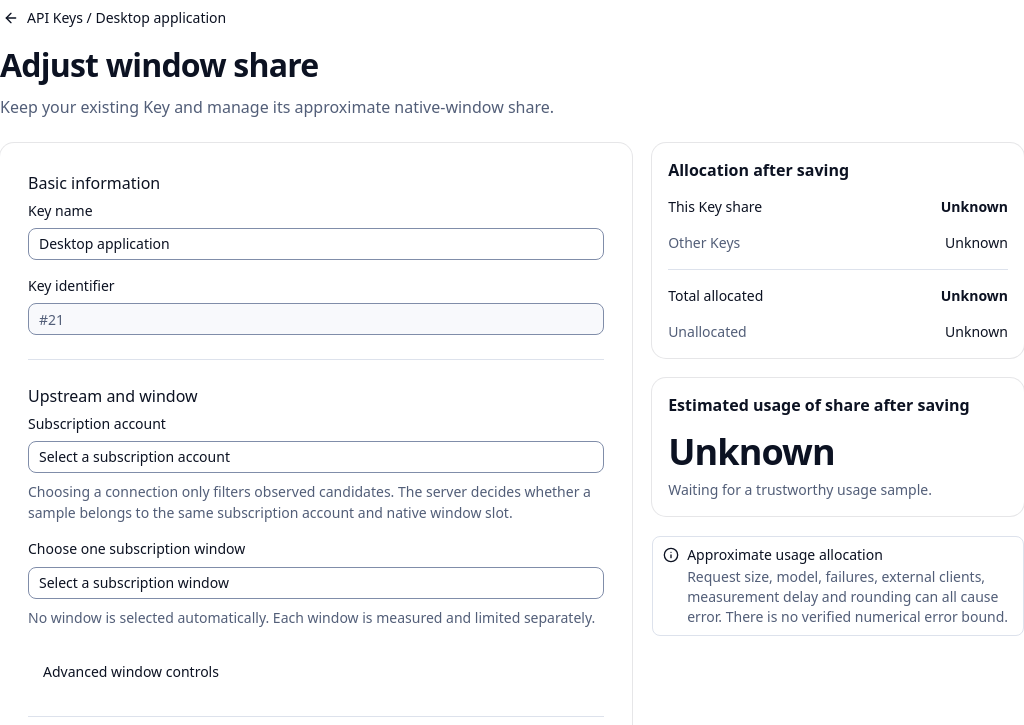
Test: advanced controls retain the existing pool closing and recovery interface
Select "Subscription account A · #9" in the dropdown labelled "Subscription account" at [316, 457], box [28, 441, 604, 473]
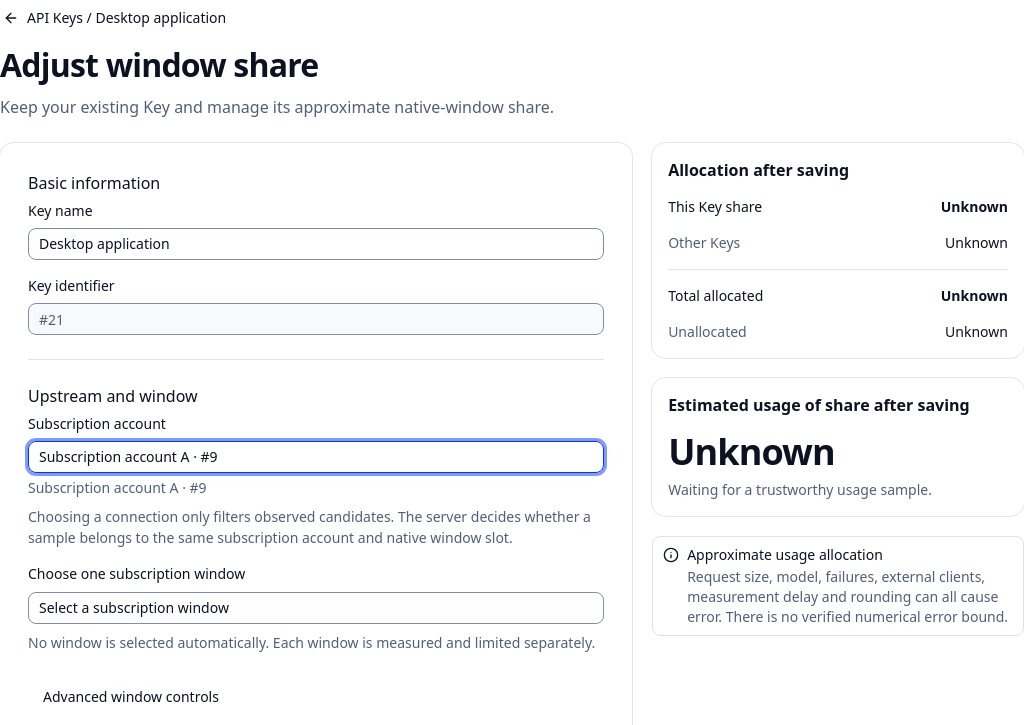
Select "5 hours · Primary window · 5-hour window" in the dropdown labelled "Choose one subscription window" at [316, 608], box [28, 592, 604, 624]
(page scrolled)
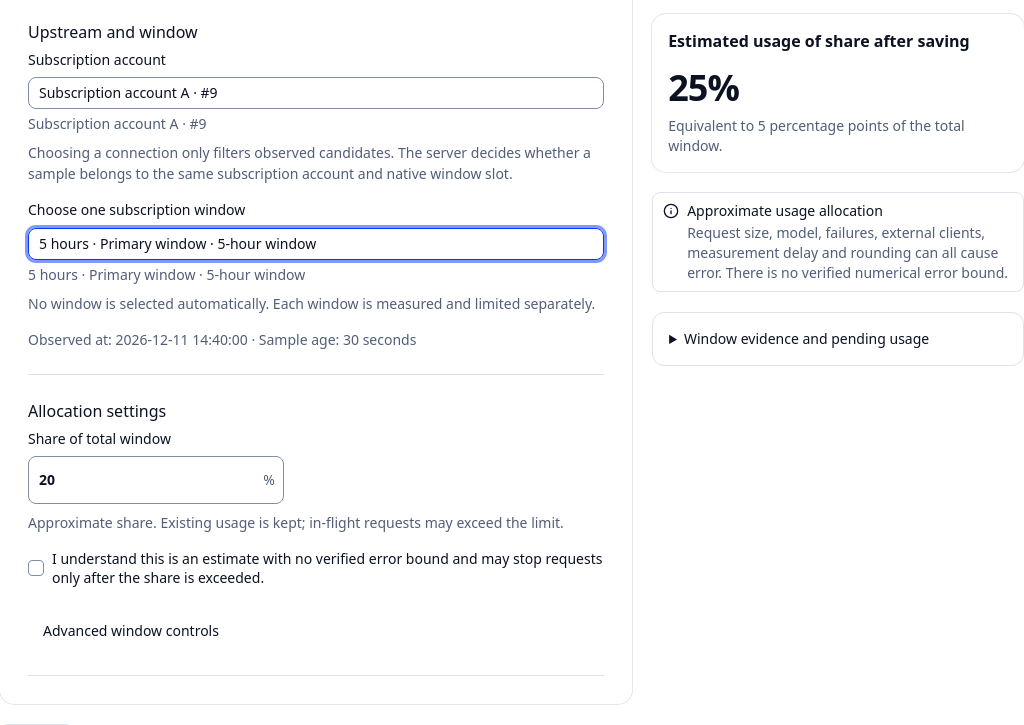
Click the button "Advanced window controls" at [131, 631], box [28, 611, 234, 651]
(page scrolled)
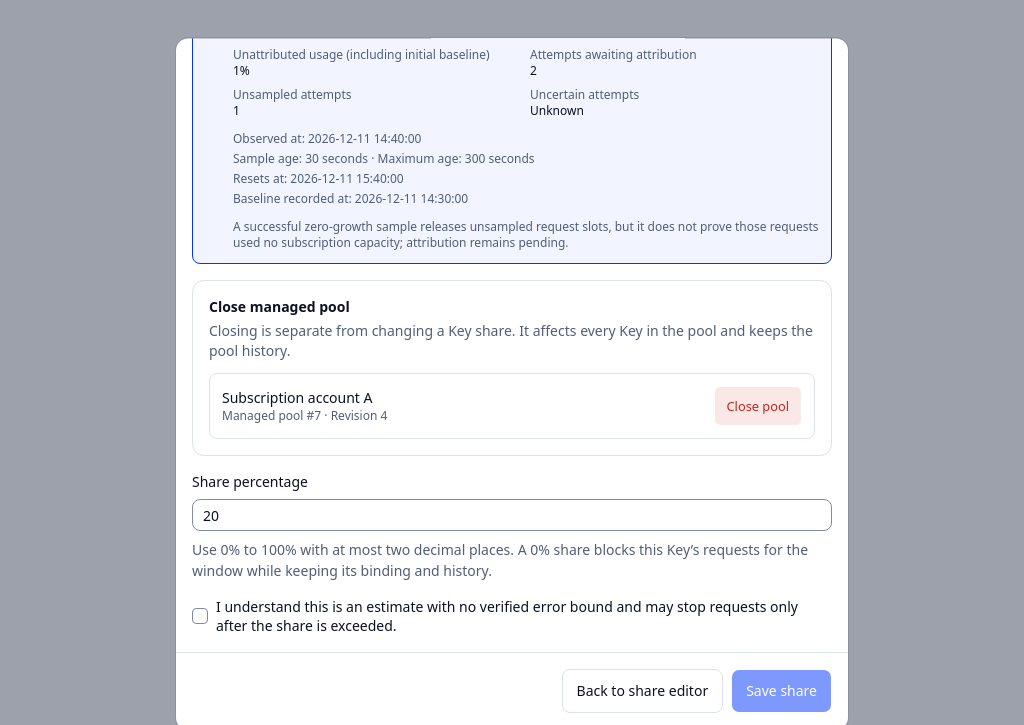
Check: the button "Close pool" is shown, box [714, 386, 802, 426]
